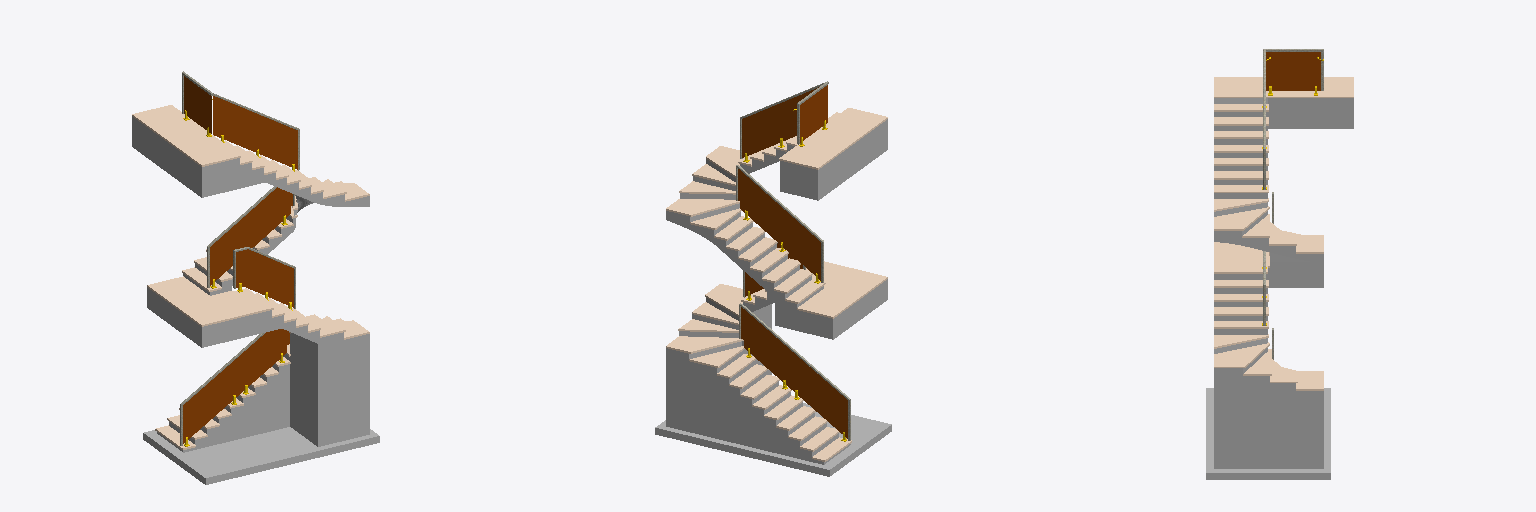
3 views of the same model, side by side, from view 1: azimuth 30°, elevation 25°; view 2: azimuth 150°, elevation 25°; view 3: azimuth 270°, elevation 25° (orthographic).
Bounding box in the file's own units: 3.96 × 7.86 × 2.9.
105 materials, 1 textured.